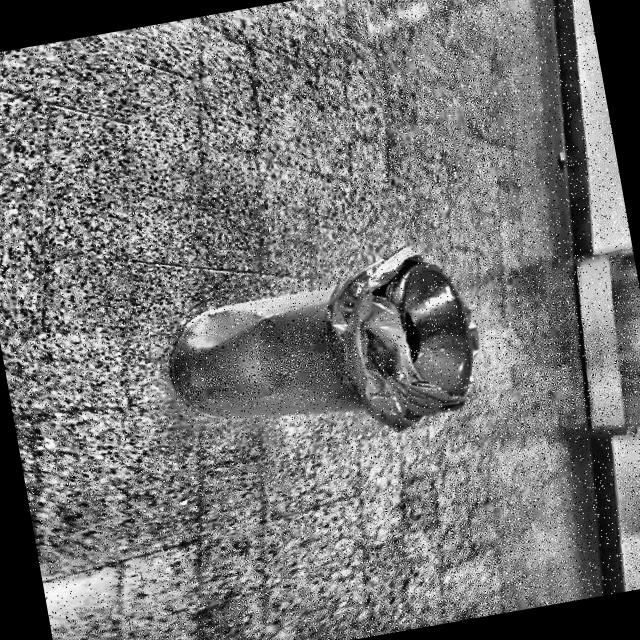Dustbin: (96, 218, 544, 514)
